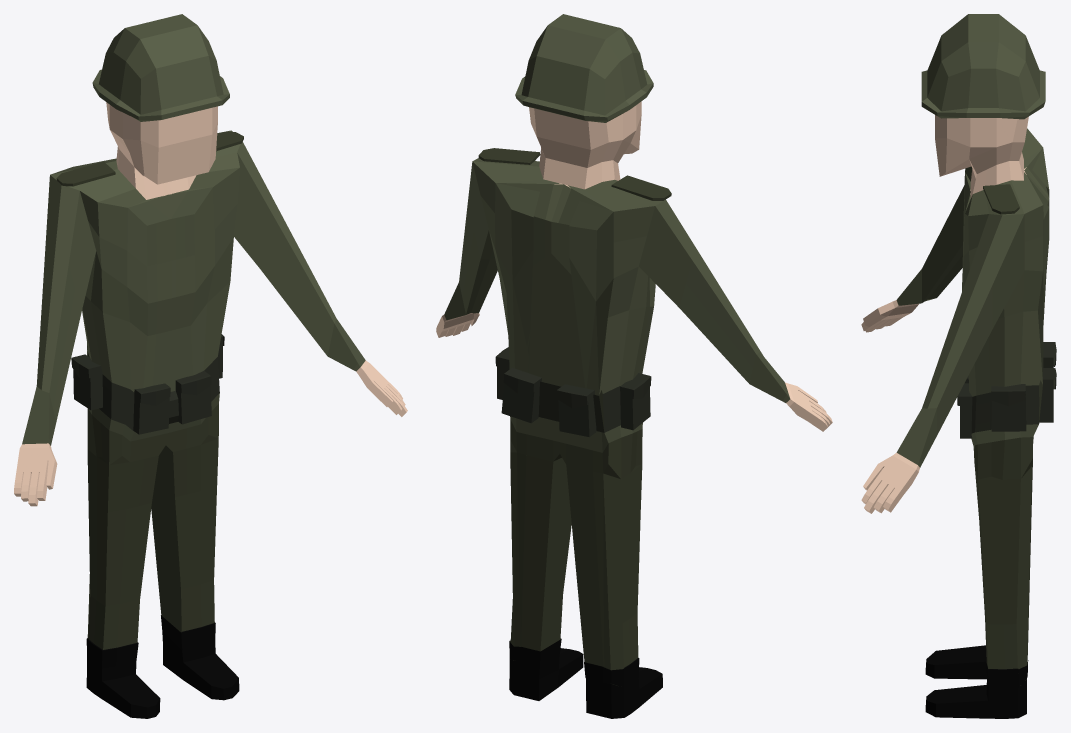
The model's file is uploads_files_783576_Soldier+(2).fbx.
3 views of the same model, side by side, from view 1: azimuth 30°, elevation 25°; view 2: azimuth 150°, elevation 25°; view 3: azimuth 270°, elevation 25° (orthographic).
Visible parts, largest first — view 1: Soldier; view 2: Soldier; view 3: Soldier.
Part boxes in pixels (bbox=[...]): Soldier: bbox=[14, 14, 407, 718]; Soldier: bbox=[436, 14, 832, 718]; Soldier: bbox=[861, 14, 1056, 718].
Bounding box in the file's own units: 136 × 220 × 58.81.
